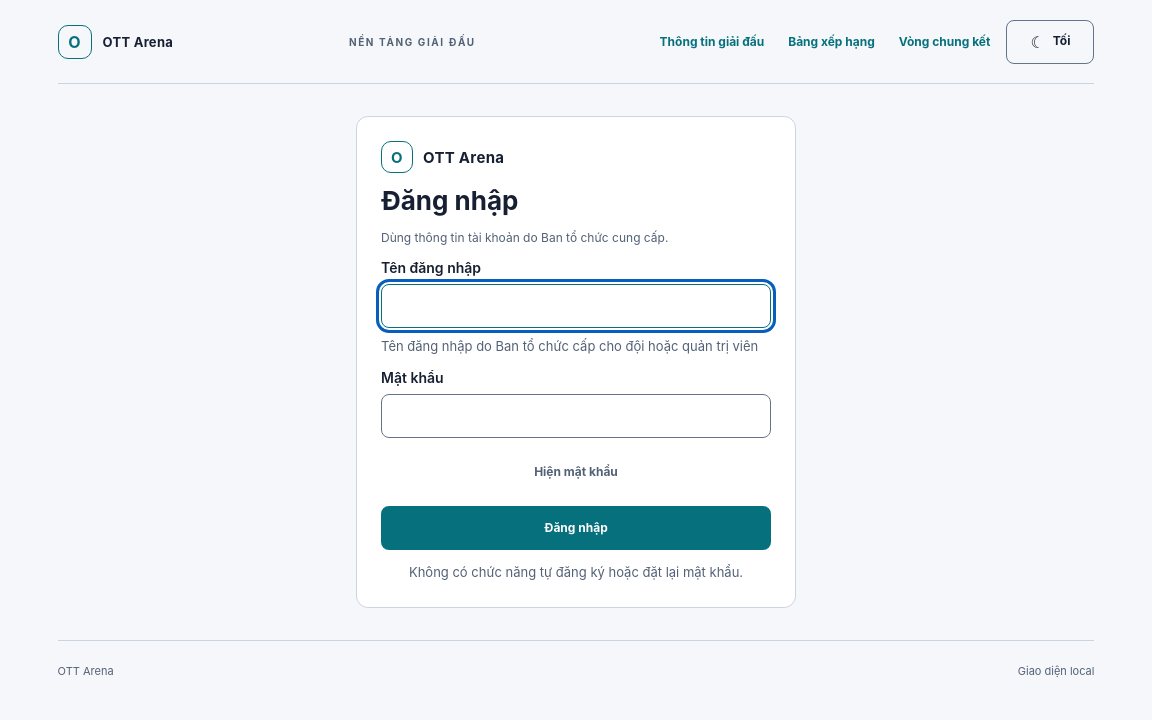
Test case: login UI › maps password-step status 401 to its message in an alert
Check: the form "đăng nhập" is shown, box [381,259,771,550]
Type "u" into the field labelled "Tên đăng nhập".
click(576, 306); type("u")  # box [381,284,771,328]
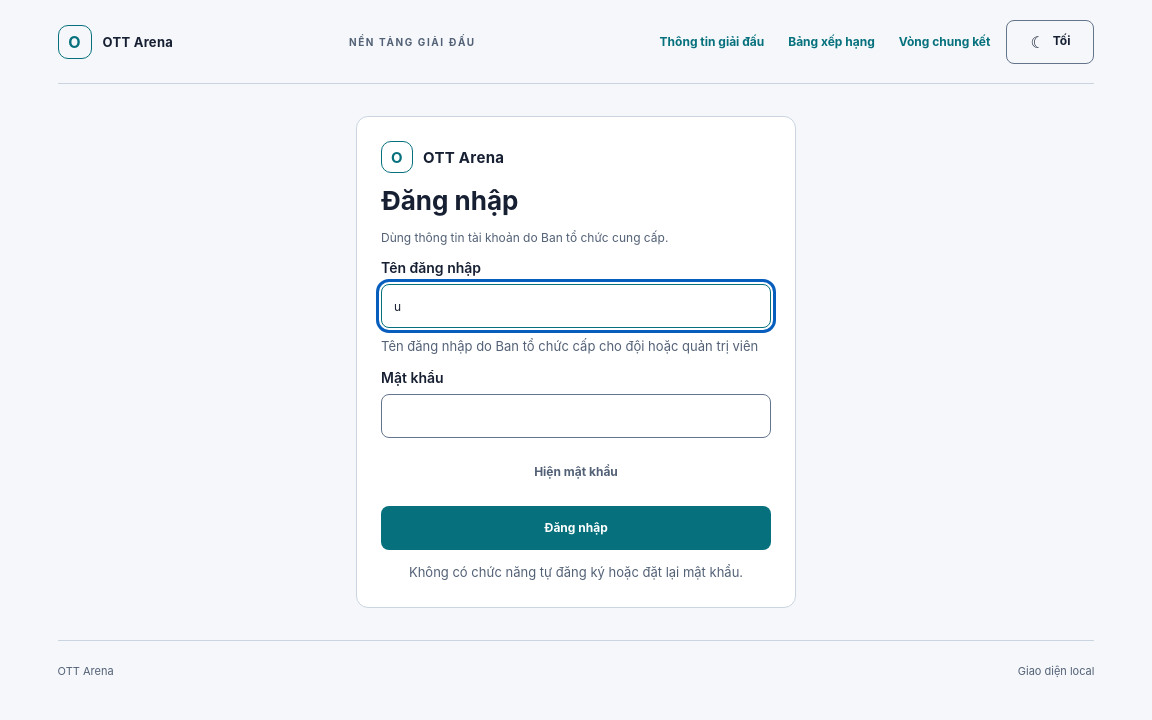
Type "p" into the password field labelled "Mật khẩu".
click(576, 416); type("p")  # box [381,394,771,438]
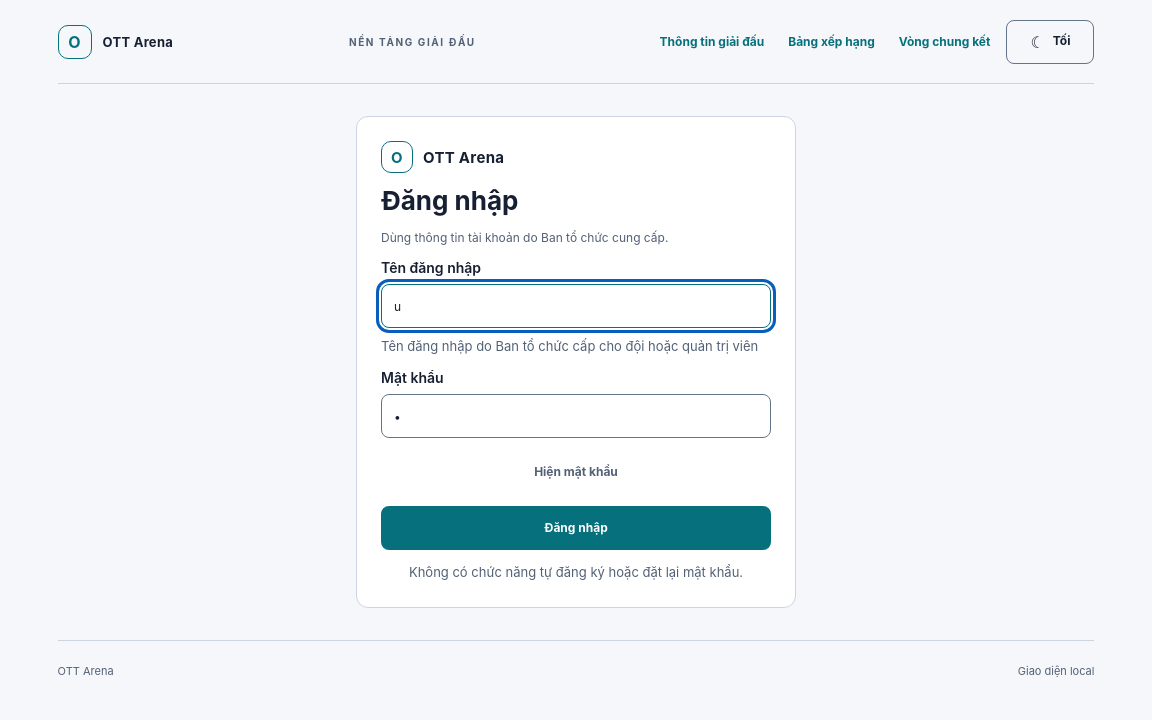
Submit the form "đăng nhập", box [381,259,771,550]
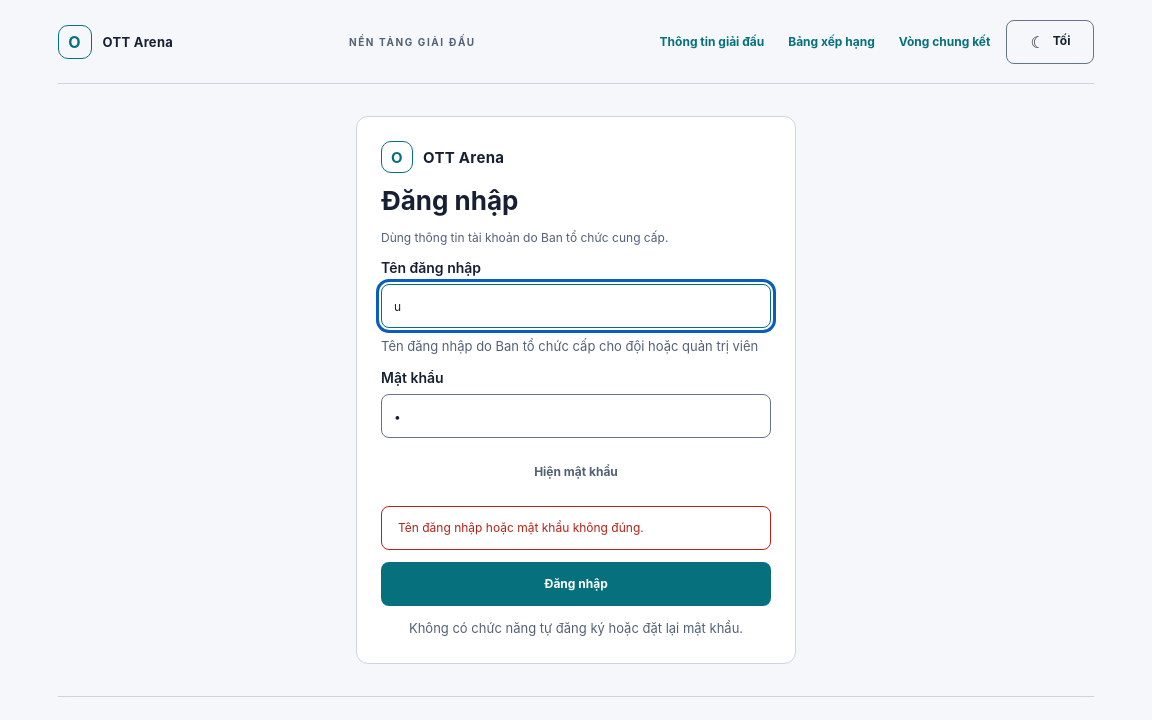
Check: the message reads "Tên đăng nhập hoặc mật khẩu không đúng.", box [398,520,644,535]
